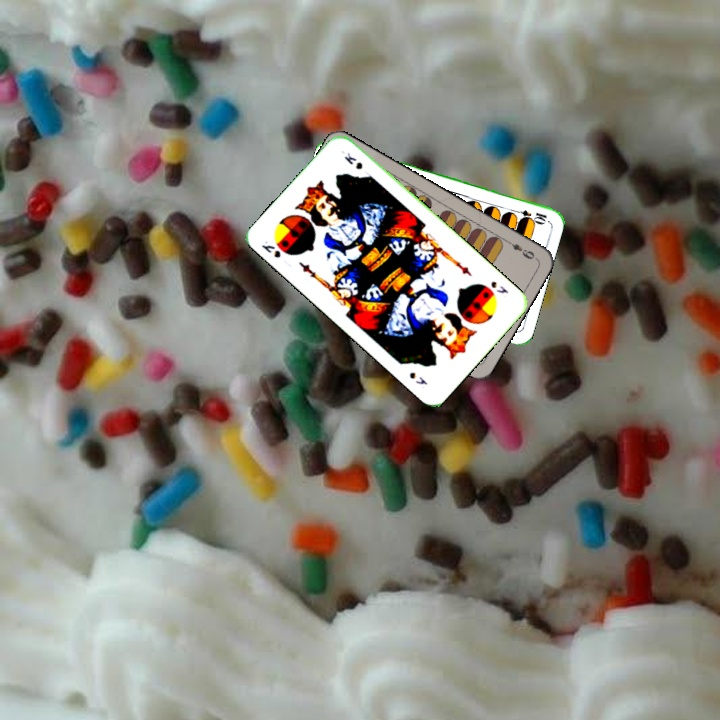E10: (509, 206, 550, 224)
E9: (502, 236, 537, 262)
SK: (257, 237, 283, 261), (487, 277, 511, 296)
